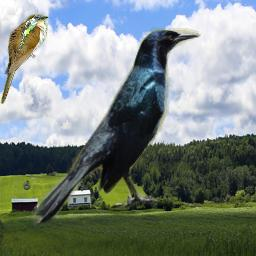Crow: (31, 27, 201, 226)
Cuckoo: (0, 14, 49, 104), (19, 15, 42, 50)
